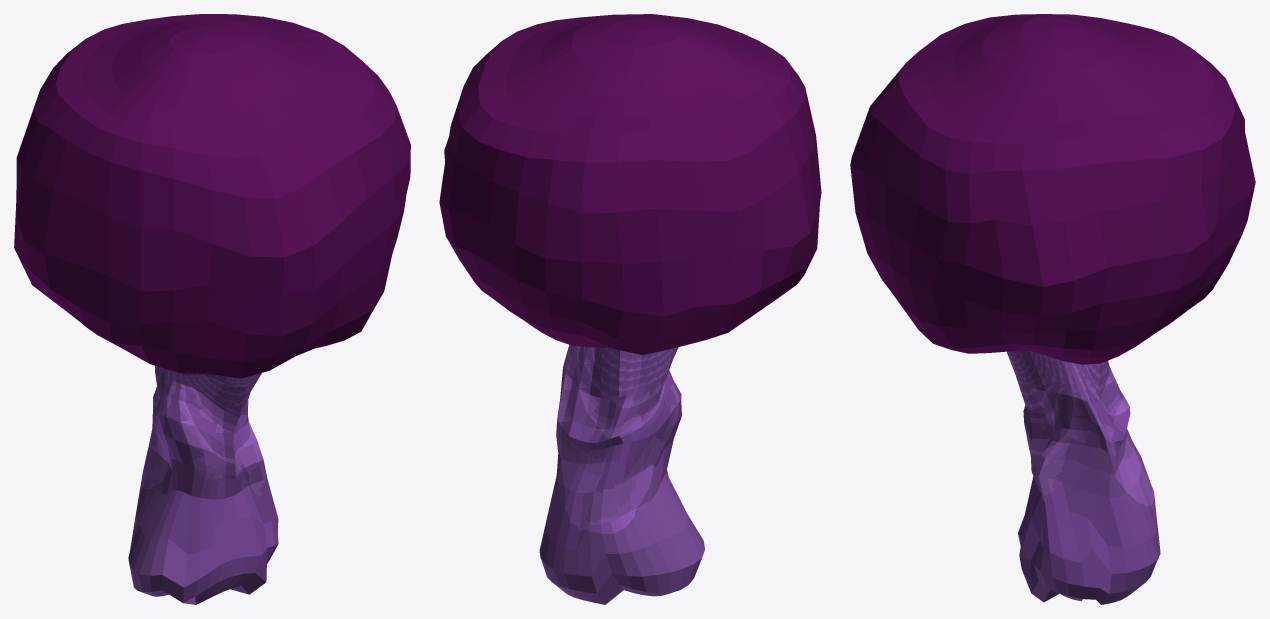
File: tree1.fbx
3 renders of one model, left to right at view 1: azimuth 30°, elevation 25°; view 2: azimuth 150°, elevation 25°; view 3: azimuth 270°, elevation 25°, orthographic. The views are drawn at different scales.
Visible parts, largest first — view 1: Esfera UV; view 2: Esfera UV; view 3: Esfera UV.
Boxes of the visible parts, <box> form: Esfera UV: <box>14,14,410,604</box>; Esfera UV: <box>439,14,821,604</box>; Esfera UV: <box>850,14,1255,604</box>.
Size of the model in its own units: 1552 by 2299 by 1524.
